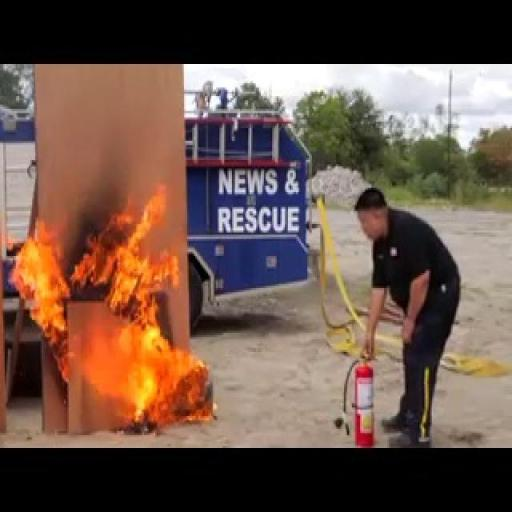smoke: (2, 190, 219, 435)
